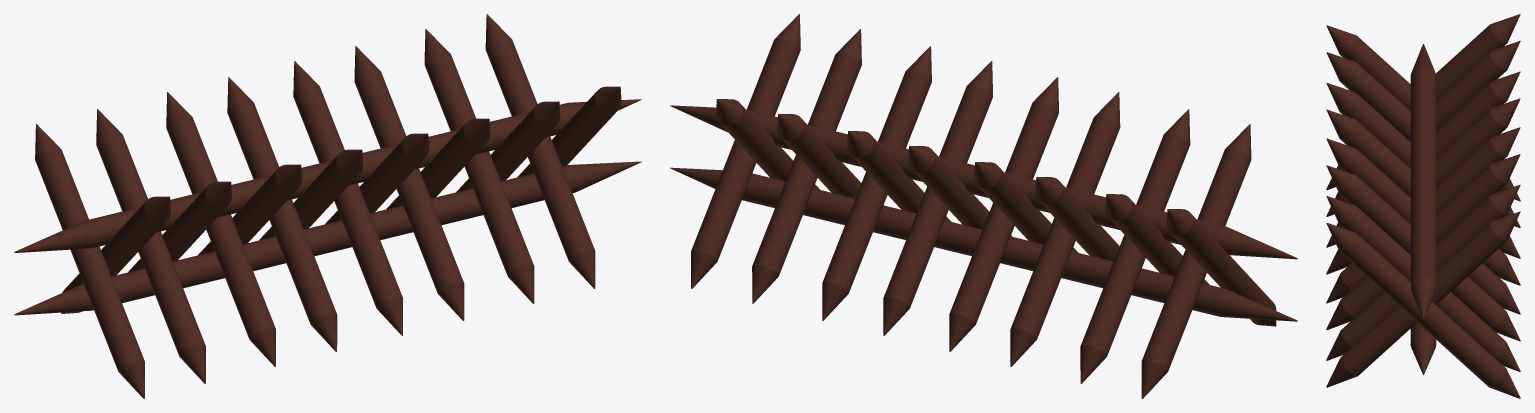
The model's file is WoodenBarricade2.fbx.
3 renders of one model, left to right at view 1: azimuth 30°, elevation 25°; view 2: azimuth 150°, elevation 25°; view 3: azimuth 270°, elevation 25°, orthographic. The views are drawn at different scales.
Visible parts, largest first — view 1: Cylinder; view 2: Cylinder; view 3: Cylinder.
Part boxes in pixels (left/top/right/bottom): Cylinder: left=14, top=14, right=641, bottom=398; Cylinder: left=670, top=14, right=1297, bottom=398; Cylinder: left=1326, top=14, right=1520, bottom=398.
Size of the model in its own units: 1583 by 473 by 474.
